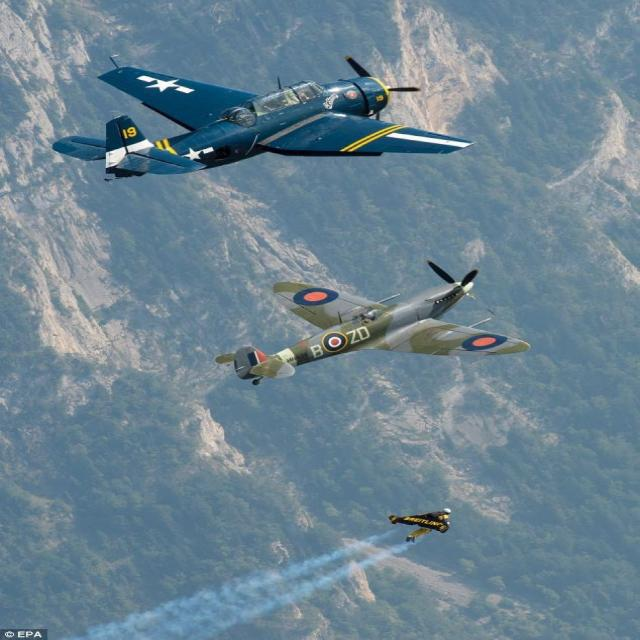iha: (52, 32, 472, 84), (205, 295, 540, 354)
